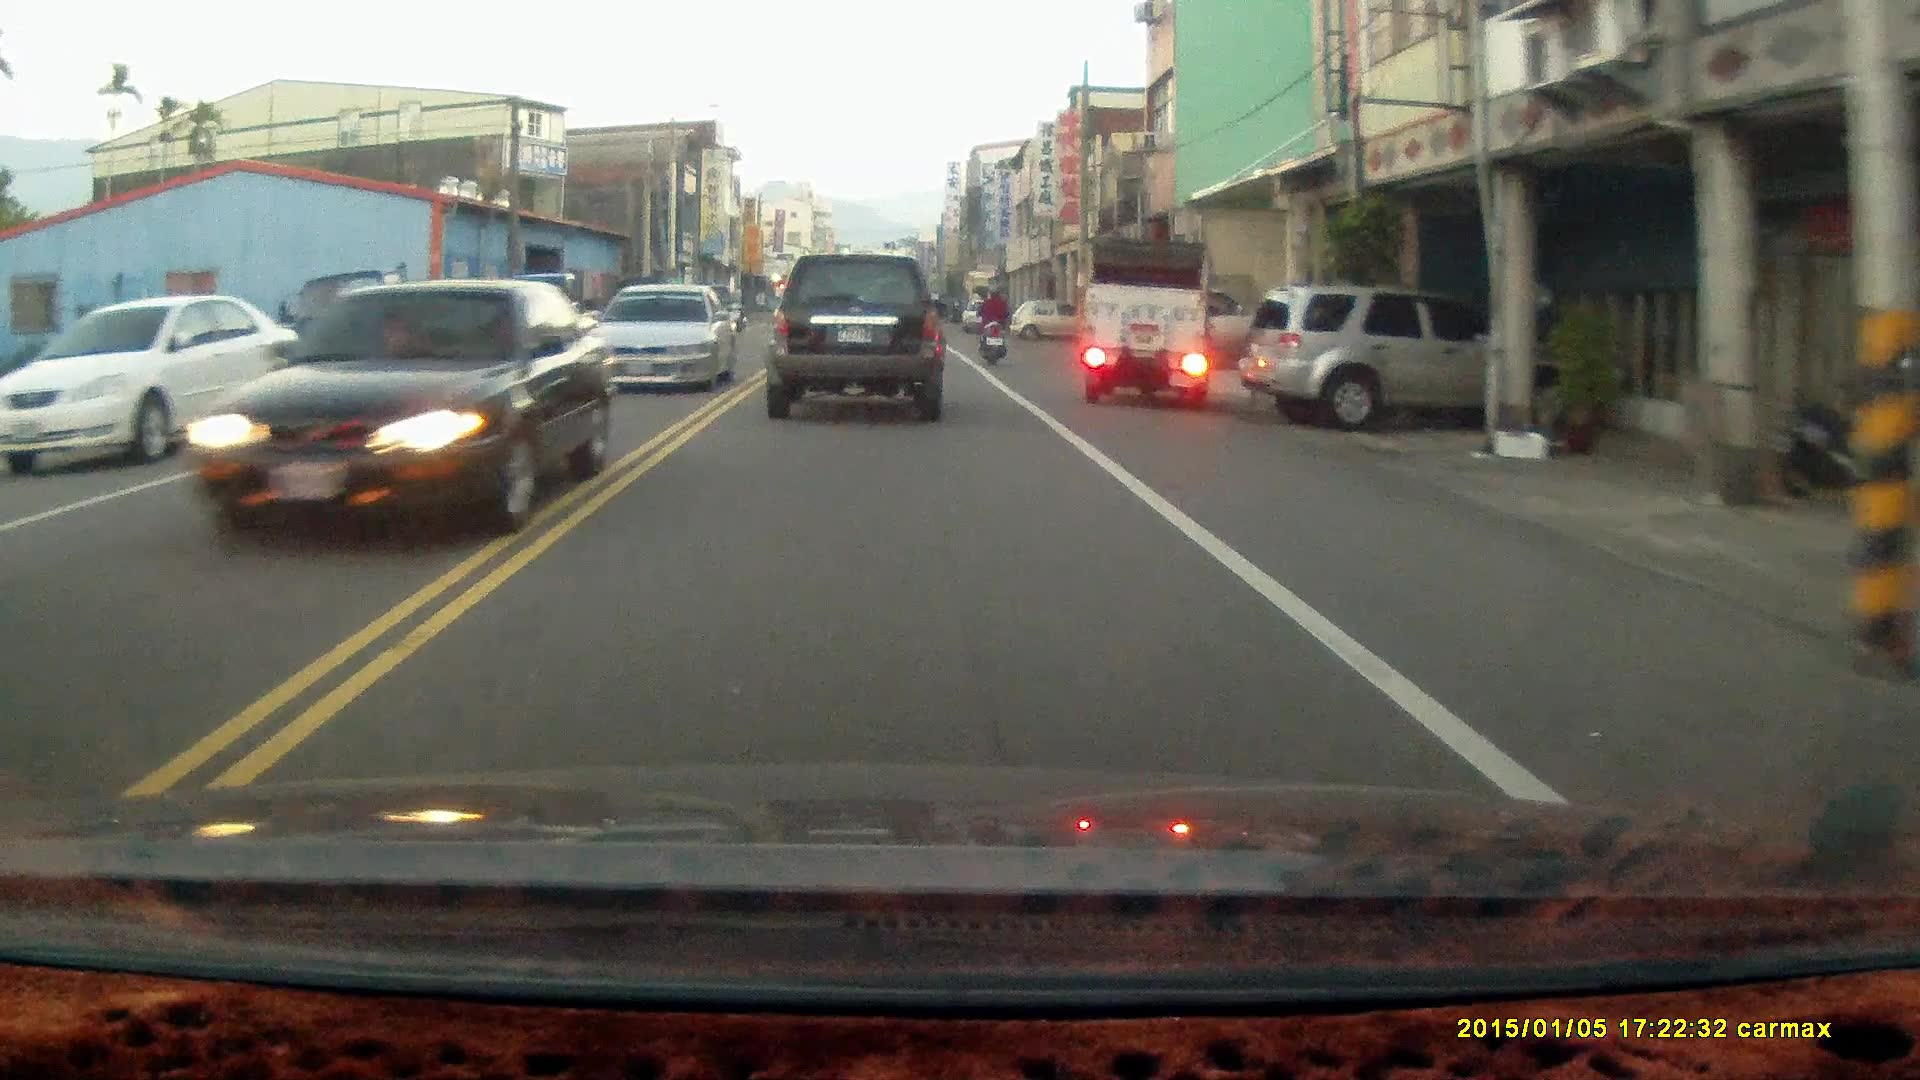rider: (974, 279, 1011, 365)
vehicle: (191, 277, 599, 543), (1, 293, 305, 476), (1243, 279, 1508, 430), (766, 256, 948, 425), (1080, 235, 1213, 402), (591, 281, 737, 393), (1011, 293, 1077, 341)
